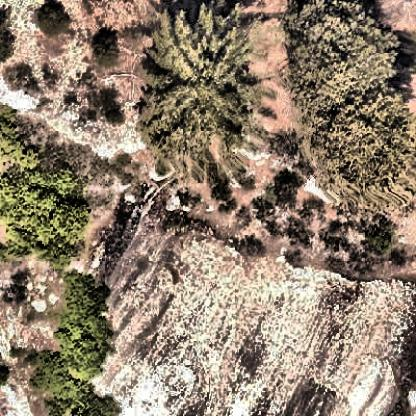tree-top: (130, 1, 259, 161), (281, 3, 406, 114), (1, 153, 96, 275), (316, 90, 416, 202), (43, 263, 126, 386), (27, 1, 76, 39), (360, 219, 403, 257), (91, 29, 121, 65)
